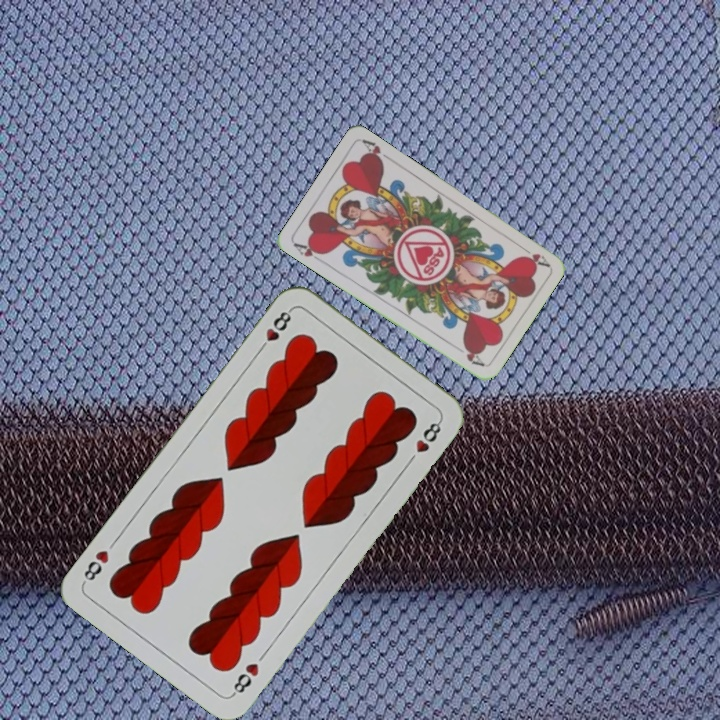H8: (254, 305, 295, 355), (228, 658, 262, 699)
HA: (290, 239, 328, 266), (515, 241, 551, 269)
